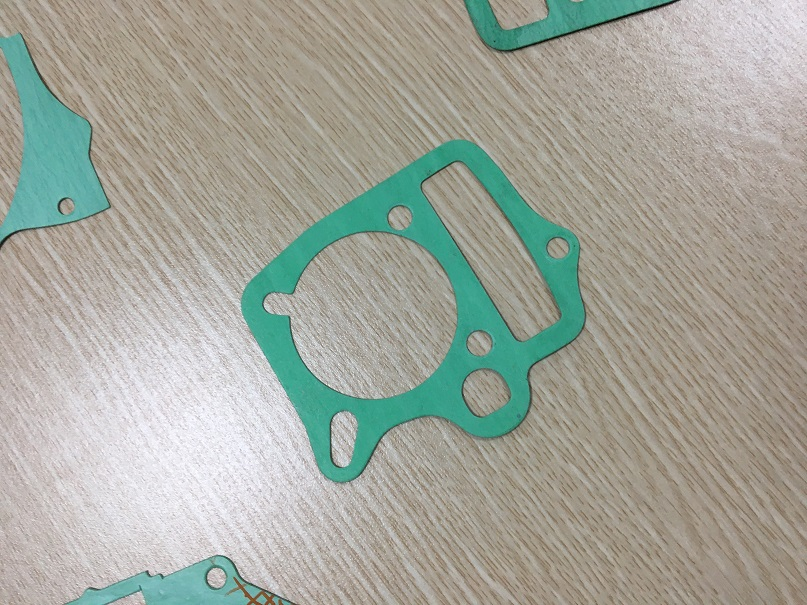type4: (220, 128, 589, 481)
